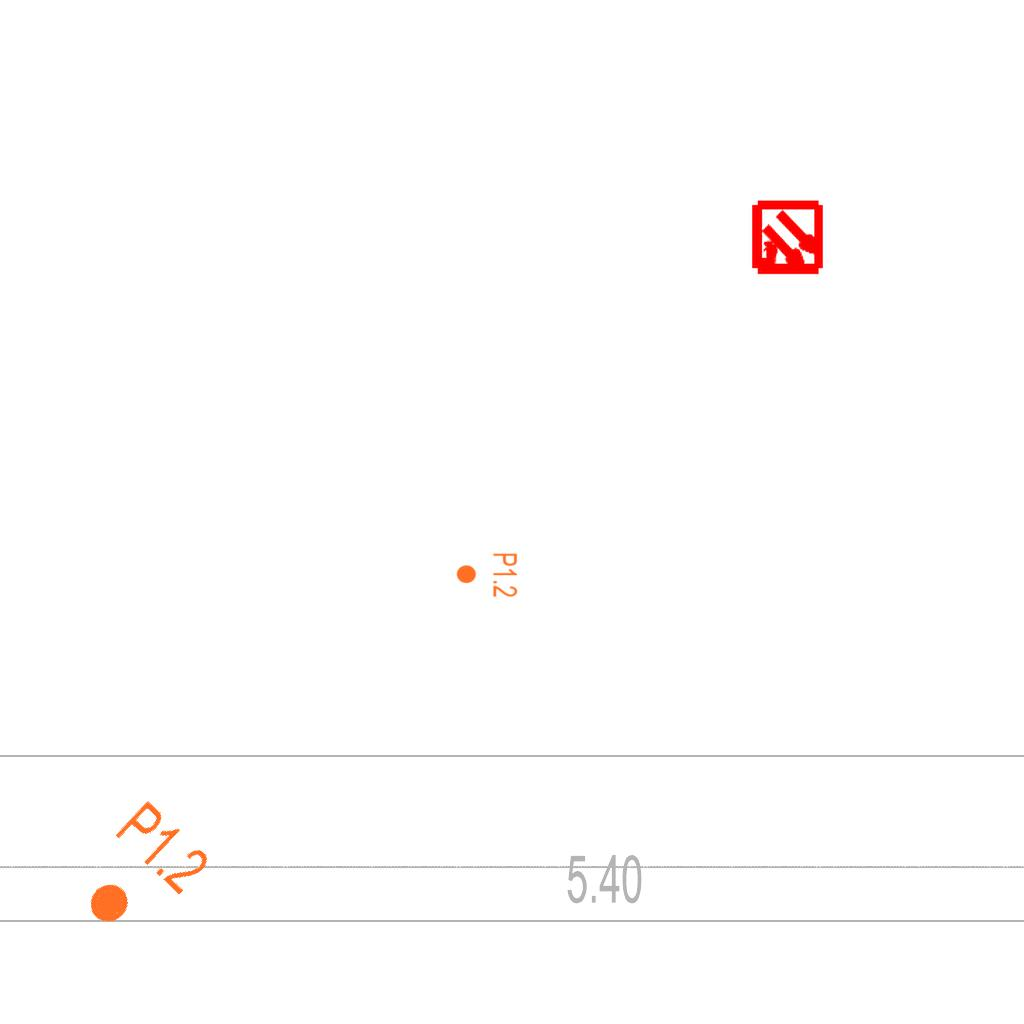Downlight_LED_Einbauleuchten_Flur: (60, 795, 217, 953), (455, 552, 519, 598)
OT_Multisensormelder_(Kombination_RMO_WMD): (731, 183, 844, 296)
